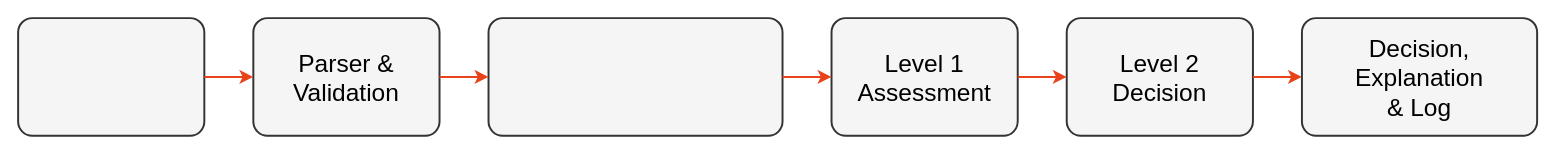
The diagram is 1554 pixels wide and 153 high, and some of its shapes have lost their labels. The shapes that lost their labels are listed below. From the top down, each one's box as (x1, y1, x2, y2) in pixels, then its label:
(17, 17, 205, 136): Dataset / Inputs
(487, 17, 783, 136): Context Facts Loads, PV, Tariff, DR Event
